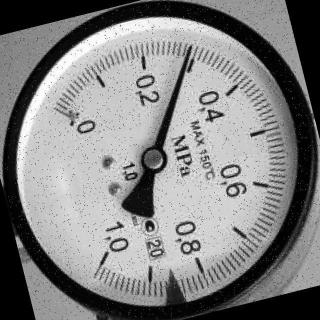gauge: (0, 4, 320, 317), (74, 215, 138, 283), (38, 88, 102, 150), (134, 140, 172, 178), (180, 40, 197, 56)
